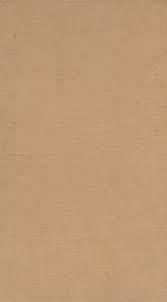Cardboard: (3, 1, 167, 302)
